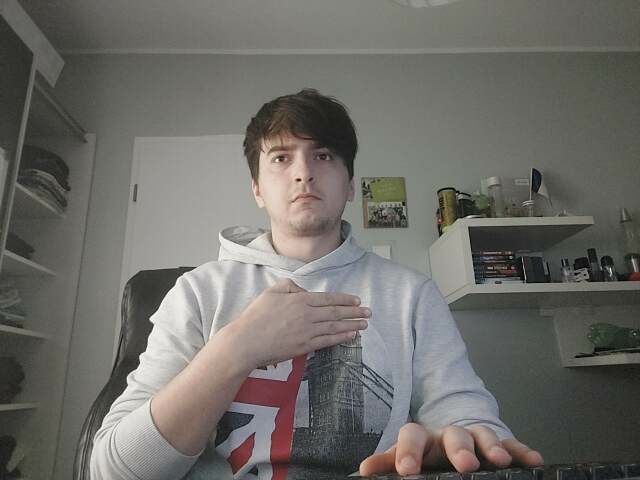please: (237, 278, 375, 356)
